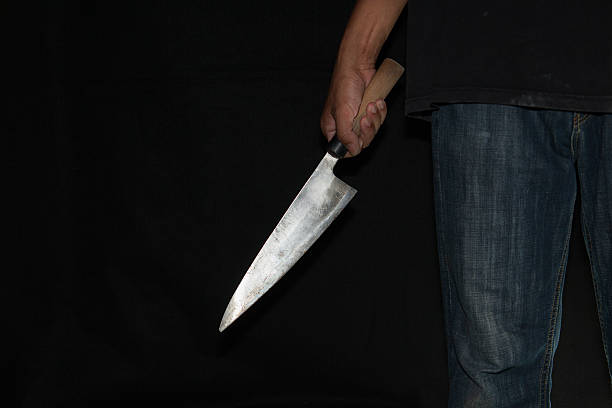knife: (217, 54, 407, 334)
